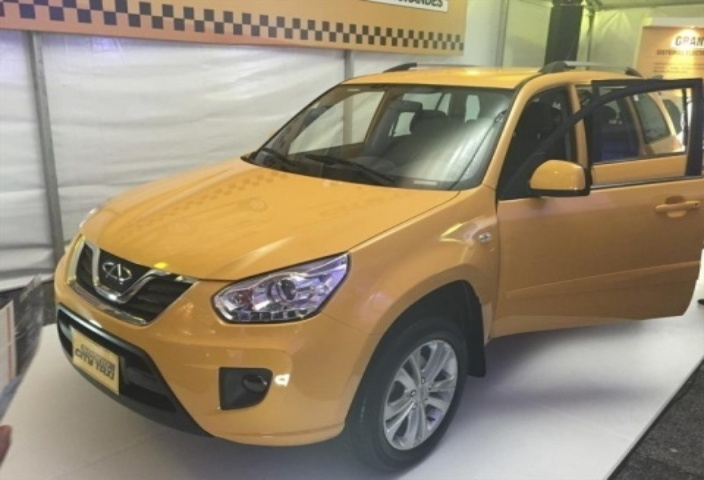taxi: (31, 45, 704, 454)
